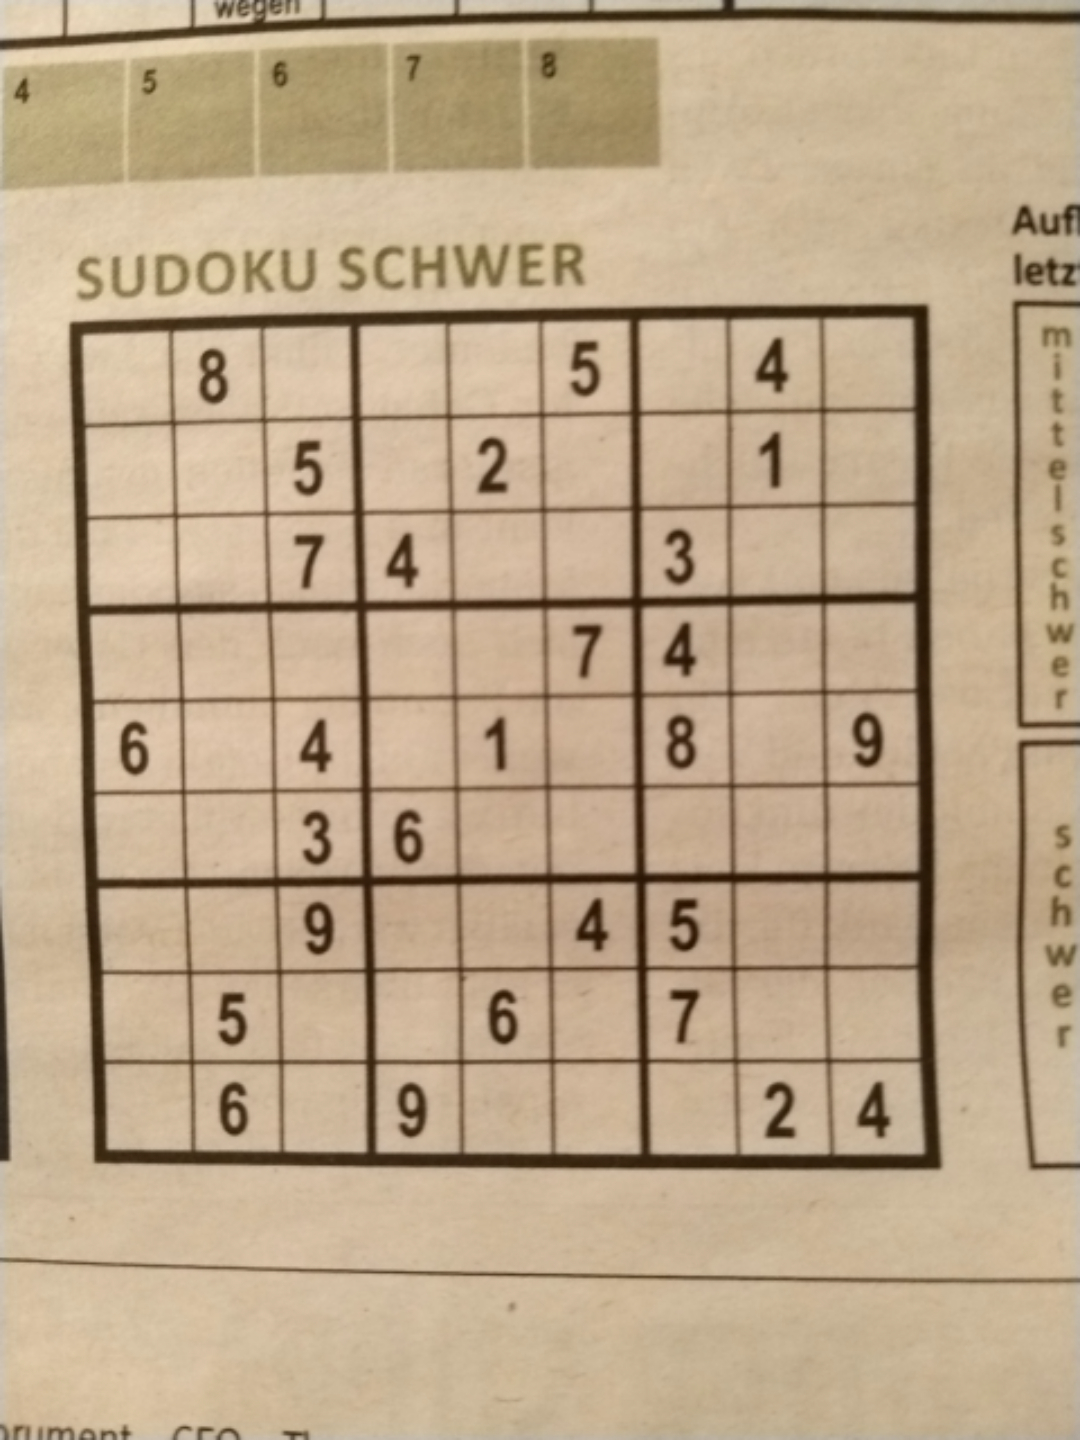sudoku: (69, 303, 940, 1170)
